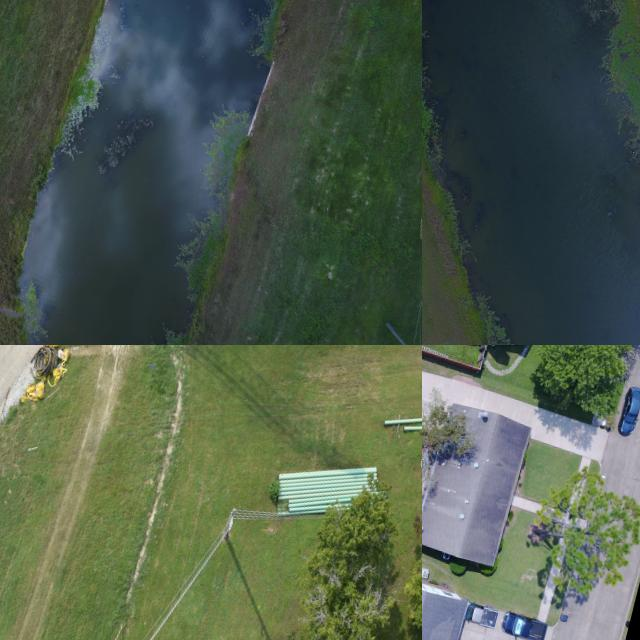fire: (20, 0, 268, 345), (422, 0, 640, 345)
